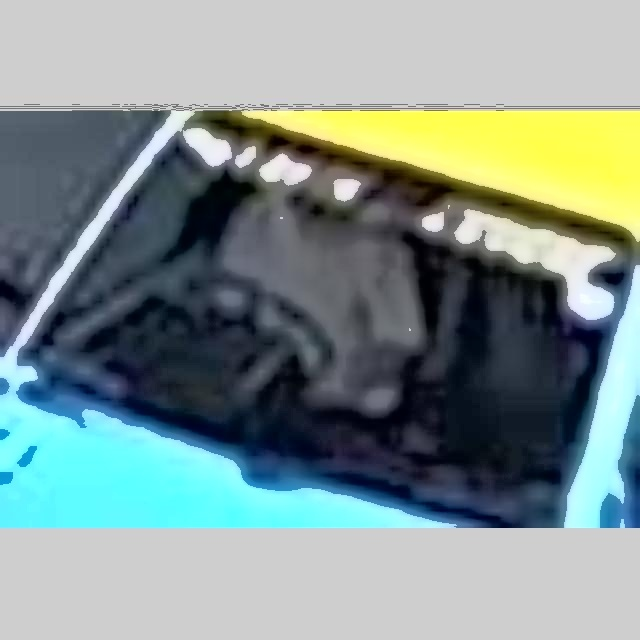tidak-pakai: (209, 174, 424, 431)
